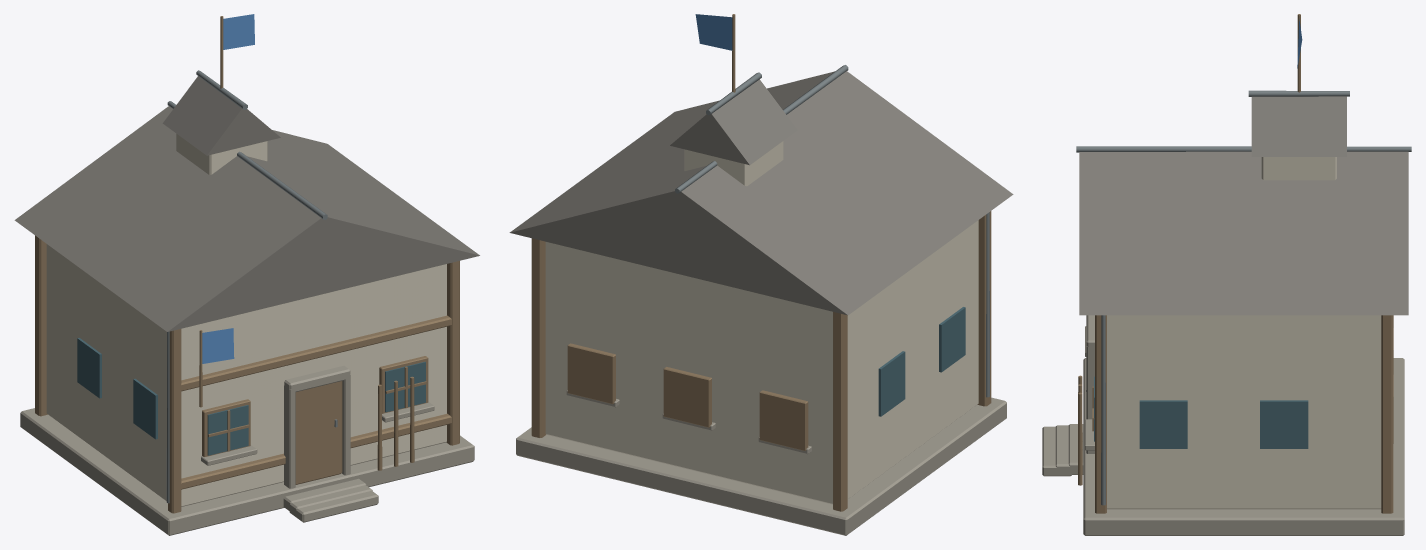
File: bld_centre_a01.glb
The picture shows the model from 3 angles, left to right: view 1: azimuth 30°, elevation 25°; view 2: azimuth 150°, elevation 25°; view 3: azimuth 270°, elevation 25°; orthographic projection. The views are drawn at different scales.
Parts seen in each view (by area): view 1: bld_centre_a01; view 2: bld_centre_a01; view 3: bld_centre_a01.
Part boxes in pixels (left/top/right/bottom): bld_centre_a01: left=14, top=14, right=479, bottom=535; bld_centre_a01: left=509, top=14, right=1013, bottom=535; bld_centre_a01: left=1042, top=14, right=1411, bottom=535.
Bounding box in the file's own units: 3.88 × 4.86 × 3.68.
